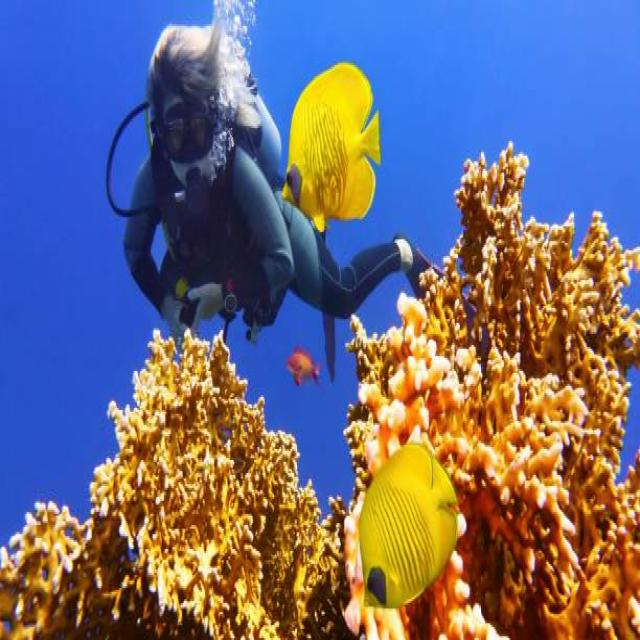ButterflyFish: (279, 53, 384, 231), (354, 442, 453, 602)
